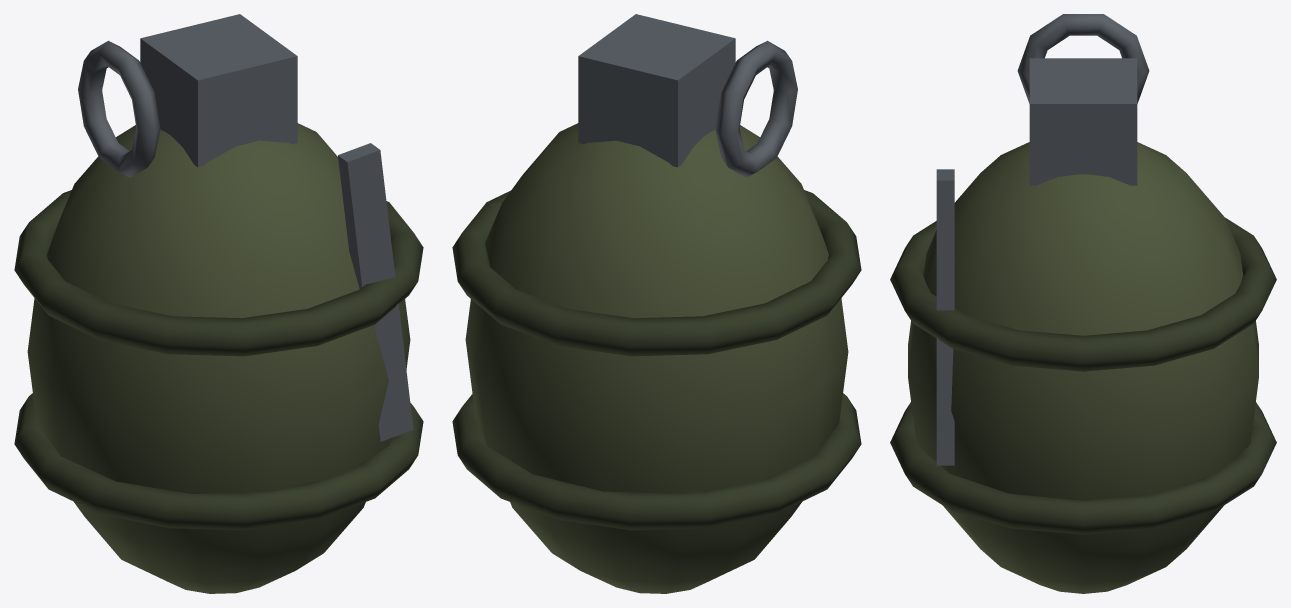
File: Grenade.gltf
The picture shows the model from 3 angles, left to right: view 1: azimuth 30°, elevation 25°; view 2: azimuth 150°, elevation 25°; view 3: azimuth 270°, elevation 25°; orthographic projection. The views are drawn at different scales.
Parts seen in each view (by area): view 1: WeaponGrenade; view 2: WeaponGrenade; view 3: WeaponGrenade.
Boxes of the visible parts, x1,y1,x2,y2 form: WeaponGrenade: (14, 14, 423, 593); WeaponGrenade: (452, 14, 861, 593); WeaponGrenade: (890, 14, 1276, 593).
Size of the model in its own units: 0.129 by 0.1919 by 0.129.
